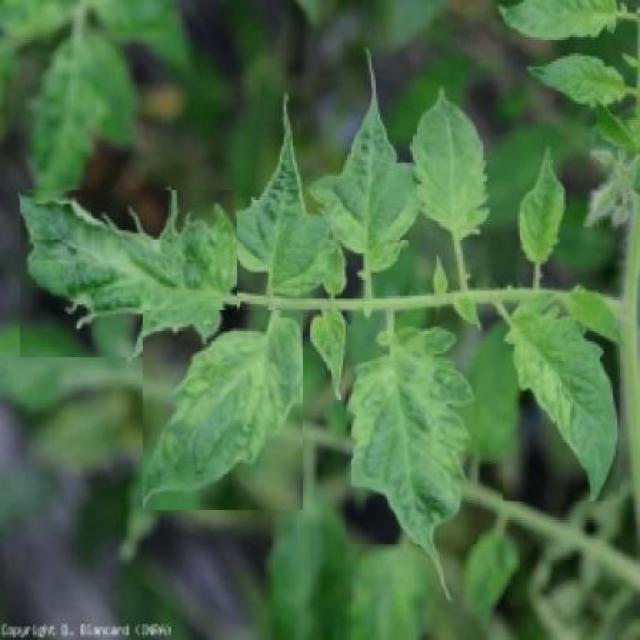Mosaic Virus: (20, 190, 237, 357), (143, 310, 303, 510), (346, 325, 478, 545), (503, 293, 620, 501)
